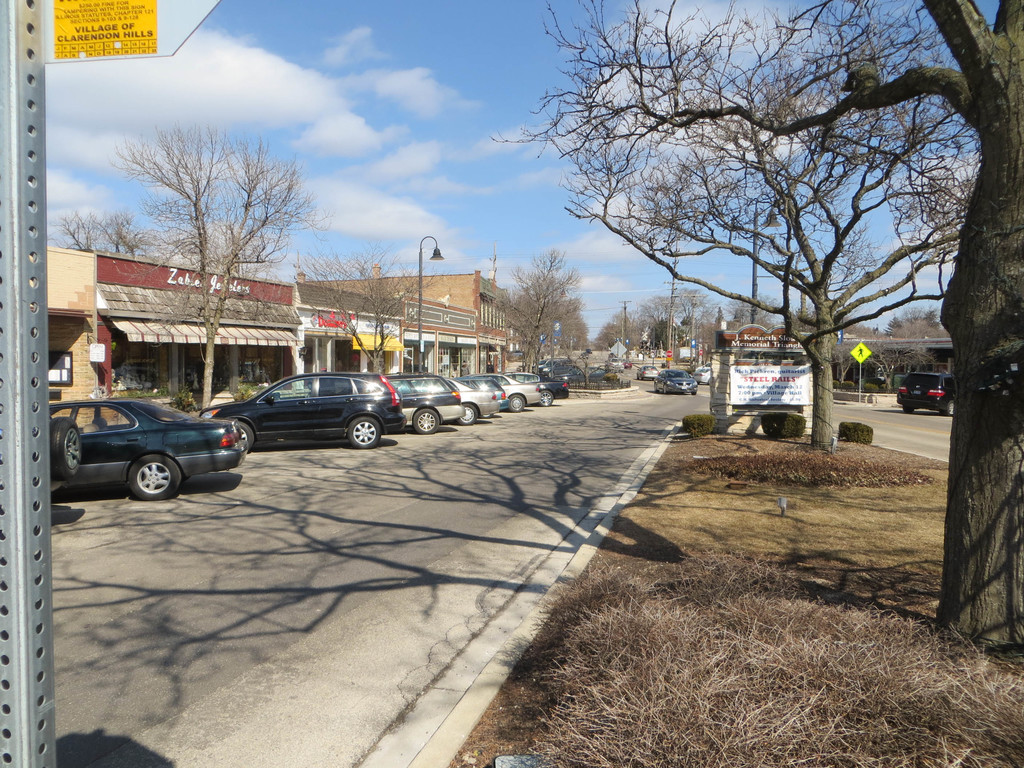Car: (44, 397, 246, 500), (213, 375, 403, 458), (384, 373, 464, 434), (899, 370, 949, 413), (51, 418, 80, 492), (448, 373, 492, 421), (490, 375, 544, 408), (464, 375, 506, 414), (651, 370, 697, 390), (542, 373, 566, 398)
